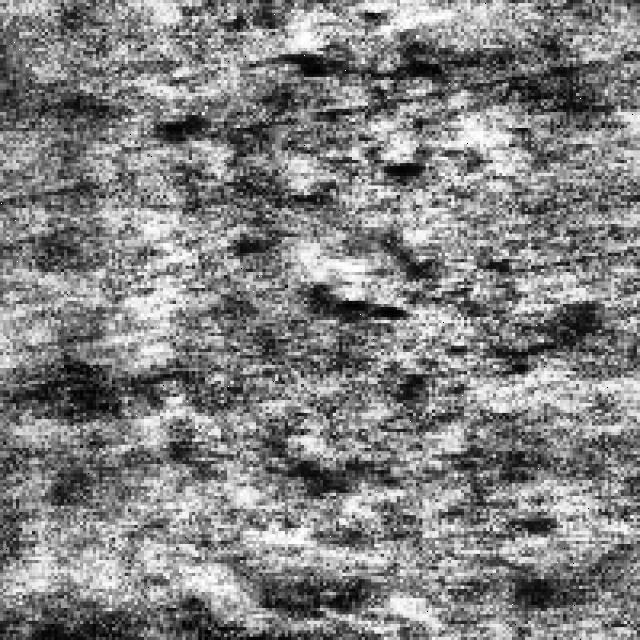Crazing: (268, 116, 436, 327)
